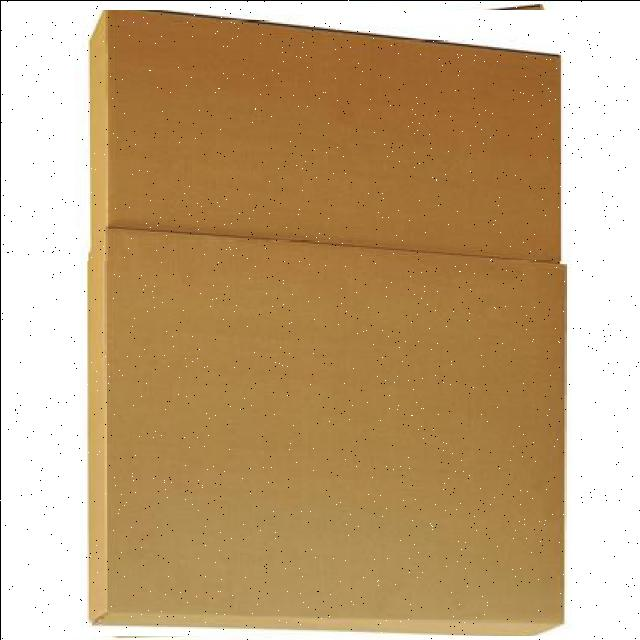normal: (72, 228, 572, 635), (80, 9, 566, 260)
